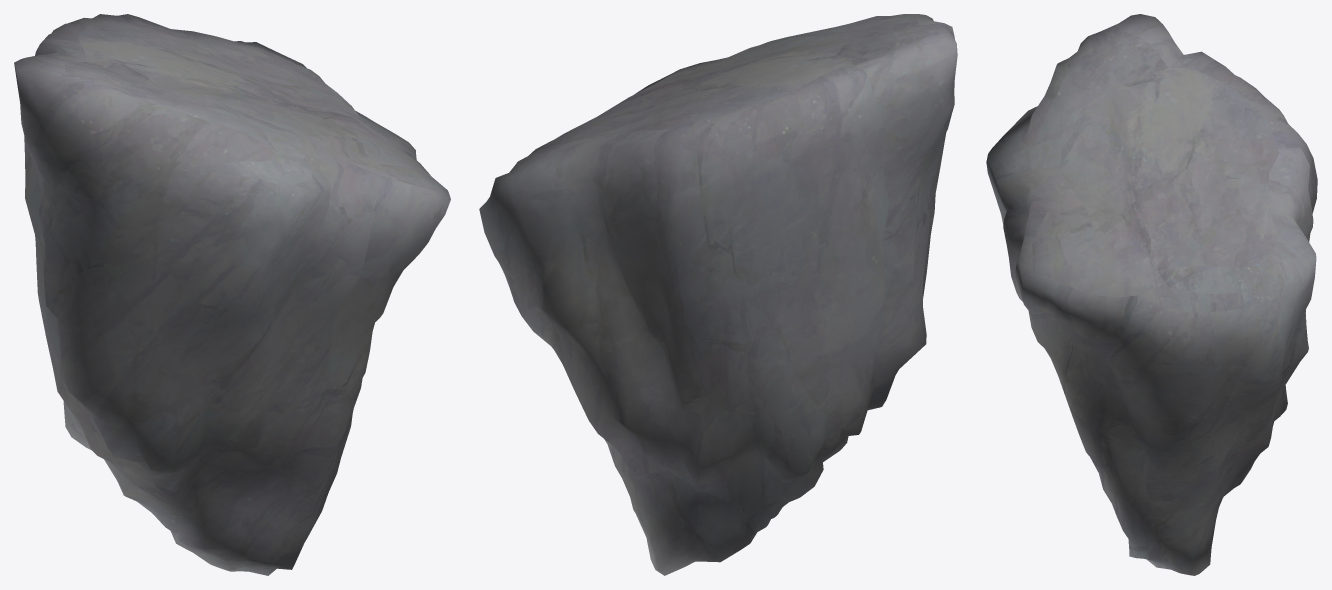
File: Area_Md_Stone_Common_Full_L_02.fbx
3 views of the same model, side by side, from view 1: azimuth 30°, elevation 25°; view 2: azimuth 150°, elevation 25°; view 3: azimuth 270°, elevation 25° (orthographic). The views are drawn at different scales.
Parts seen in each view (by area): view 1: Area_Md_Stone_Common_Full_L_02_Lod0; view 2: Area_Md_Stone_Common_Full_L_02_Lod0; view 3: Area_Md_Stone_Common_Full_L_02_Lod0.
Part boxes in pixels (bbox=[...]): Area_Md_Stone_Common_Full_L_02_Lod0: bbox=[14, 14, 450, 575]; Area_Md_Stone_Common_Full_L_02_Lod0: bbox=[479, 14, 957, 575]; Area_Md_Stone_Common_Full_L_02_Lod0: bbox=[986, 14, 1317, 575].
Bounding box in the file's own units: 58.58 × 78.89 × 51.57.
